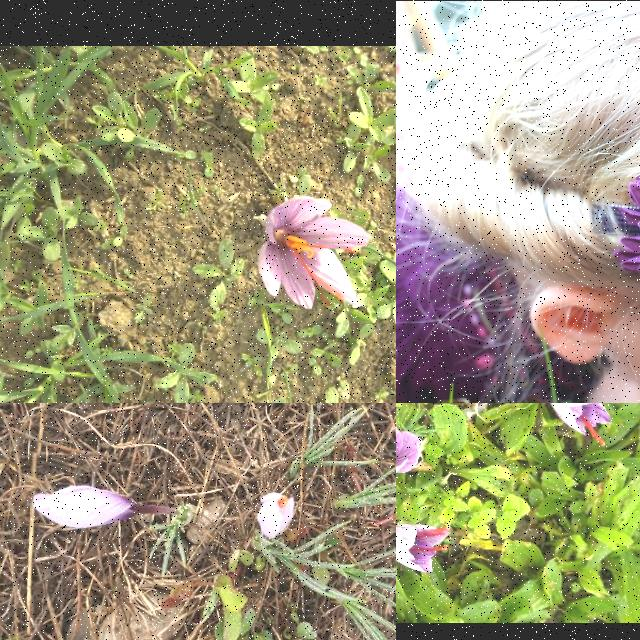flower: (257, 197, 371, 309), (34, 486, 148, 530), (550, 403, 613, 445), (396, 525, 450, 574), (396, 416, 425, 481), (258, 494, 294, 538)
